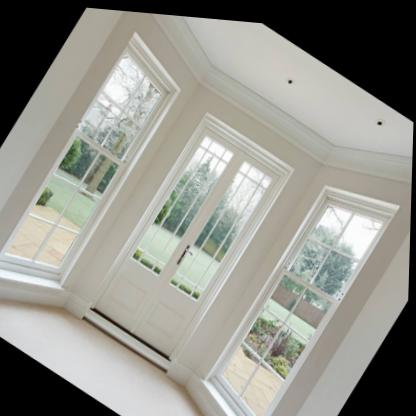Window: (82, 107, 296, 372), (205, 179, 399, 416), (0, 31, 181, 285)
